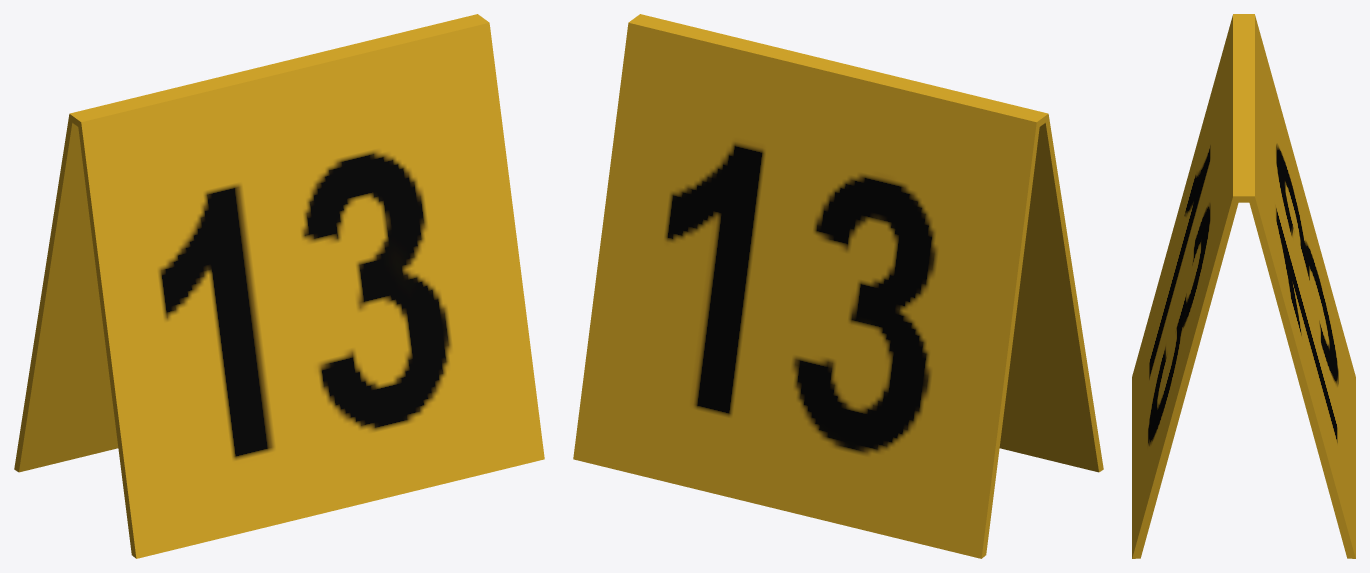
File: card_13.fbx
3 views of the same model, side by side, from view 1: azimuth 30°, elevation 25°; view 2: azimuth 150°, elevation 25°; view 3: azimuth 270°, elevation 25° (orthographic). The views are drawn at different scales.
Visible parts, largest first — view 1: card.013; view 2: card.013; view 3: card.013.
Part boxes in pixels (left/top/right/bottom): card.013: left=14, top=14, right=544, bottom=558; card.013: left=573, top=14, right=1103, bottom=558; card.013: left=1132, top=14, right=1355, bottom=558.
Bounding box in the file's own units: 18.08 × 16.77 × 9.38.
